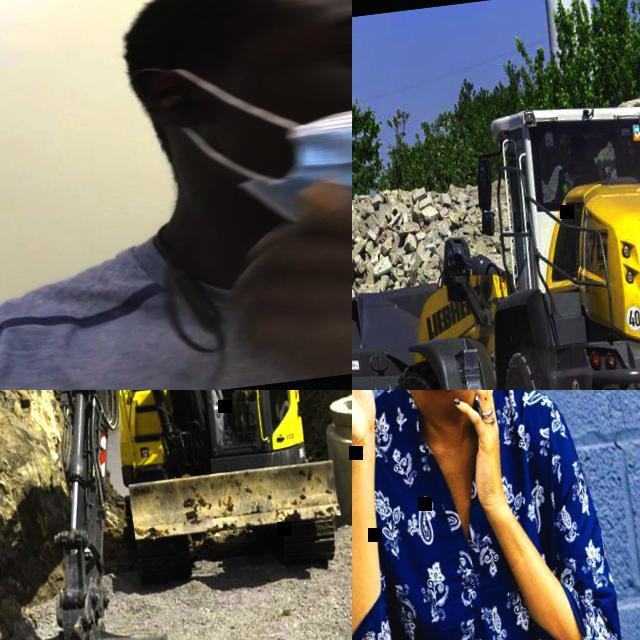helmet: (568, 134, 587, 152)
vest: (560, 160, 606, 197)
